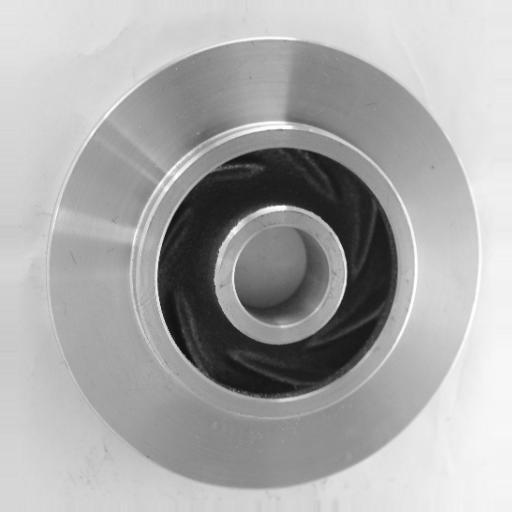polished_casting: (47, 34, 480, 491)
